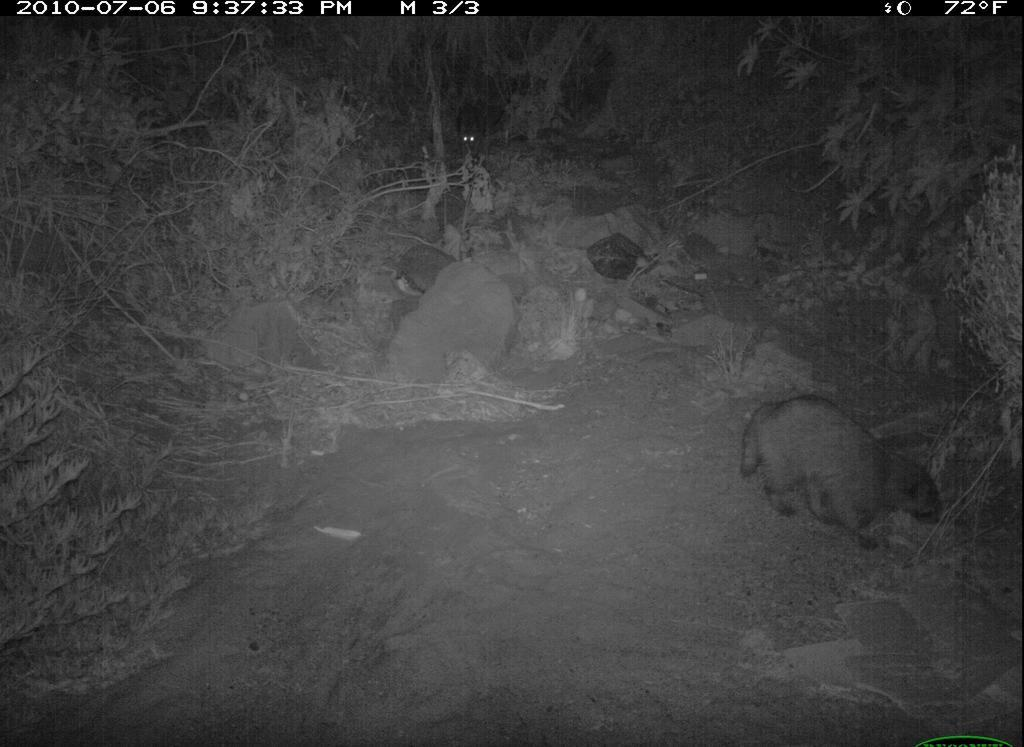raccoon: (737, 381, 961, 562)
